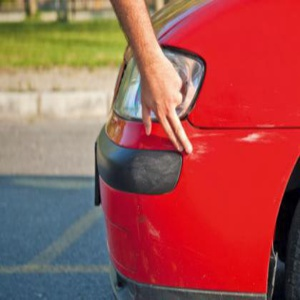bumper_scratch: (115, 205, 204, 294)
